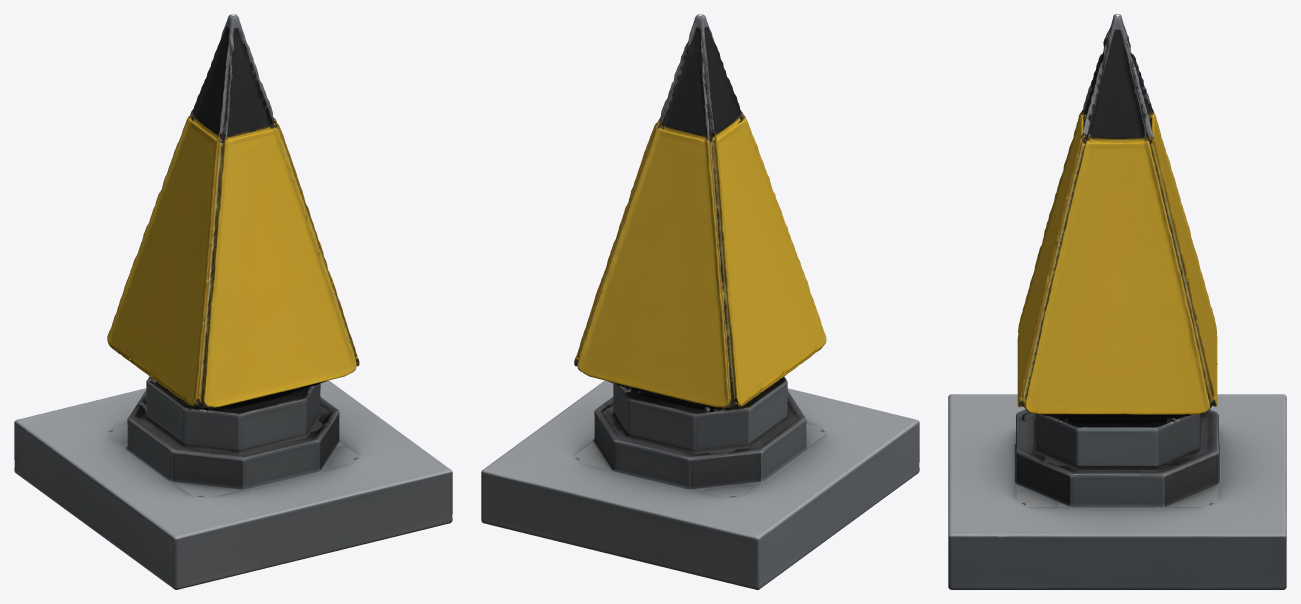
Rendered from Space-beacon.fbx.
3 views of the same model, side by side, from view 1: azimuth 30°, elevation 25°; view 2: azimuth 150°, elevation 25°; view 3: azimuth 270°, elevation 25° (orthographic). The views are drawn at different scales.
Parts seen in each view (by area): view 1: Space-beacon; view 2: Space-beacon; view 3: Space-beacon.
Boxes of the visible parts, bbox=[...] form: Space-beacon: bbox=[14, 14, 452, 589]; Space-beacon: bbox=[481, 14, 919, 589]; Space-beacon: bbox=[948, 14, 1286, 589].
Bounding box in the file's own units: 107 × 189 × 108.
